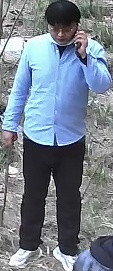phone: (35, 2, 107, 93)
